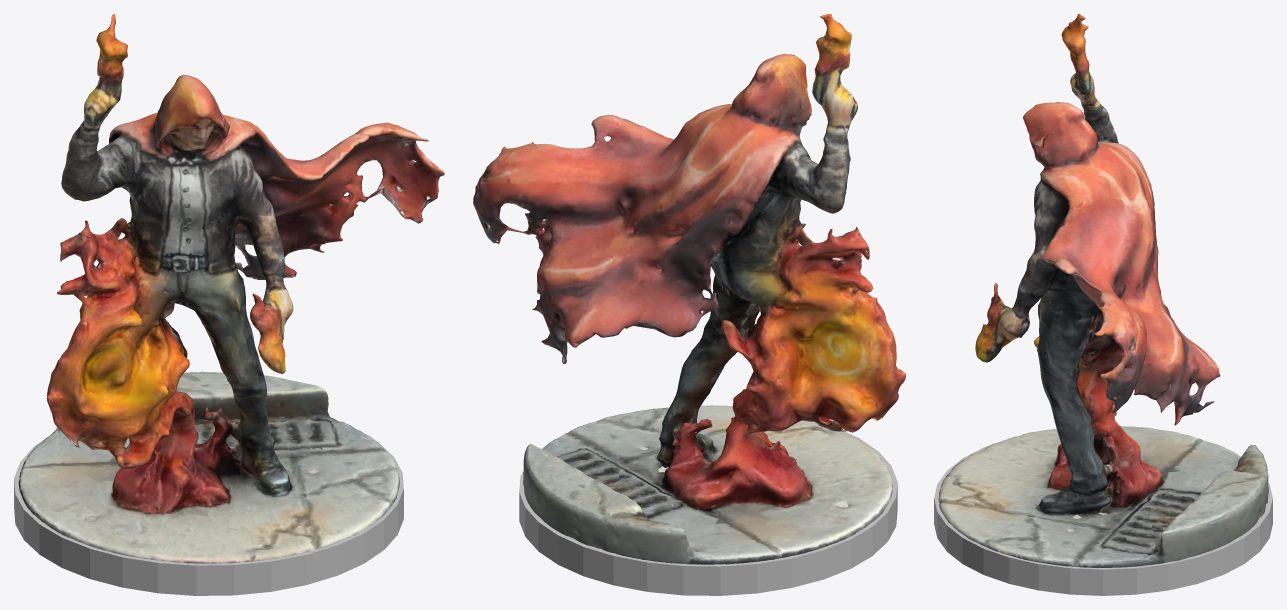
3 renders of one model, left to right at view 1: azimuth 30°, elevation 25°; view 2: azimuth 150°, elevation 25°; view 3: azimuth 270°, elevation 25°, orthographic. The views are drawn at different scales.
Parts seen in each view (by area): view 1: Hood, default; view 2: Hood, default; view 3: Hood, default.
Part boxes in pixels (x1=…): Hood: x1=18, y1=14, x2=444, y2=563; default: x1=14, y1=441, x2=403, y2=595; Hood: x1=473, y1=14, x2=905, y2=564; default: x1=519, y1=431, x2=897, y2=595; Hood: x1=938, y1=14, x2=1268, y2=567; default: x1=934, y1=445, x2=1272, y2=595.
Bounding box in the file's own units: 1.7 × 2.08 × 1.38.
2 materials, 1 textured.
